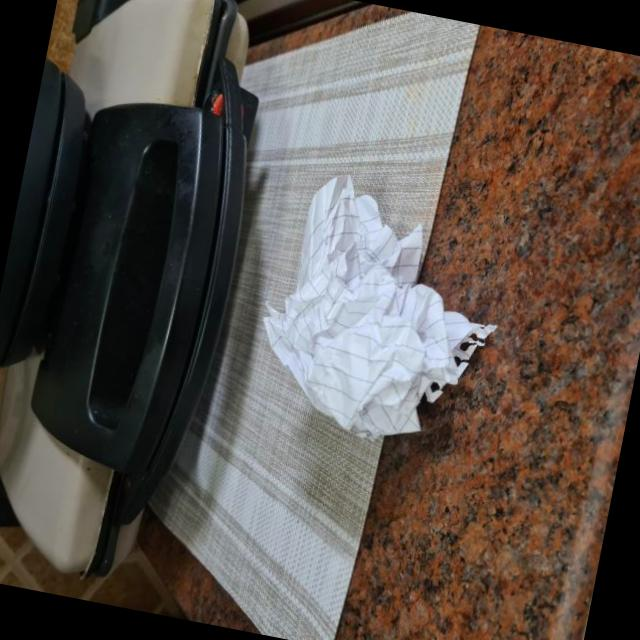cardboard paper: (263, 176, 494, 438)
